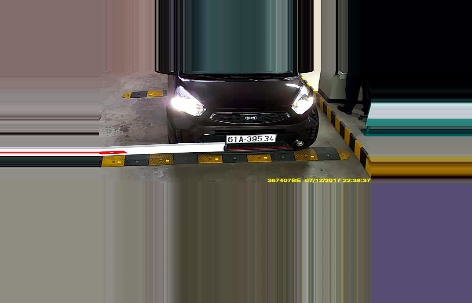plate: (227, 133, 278, 145)
